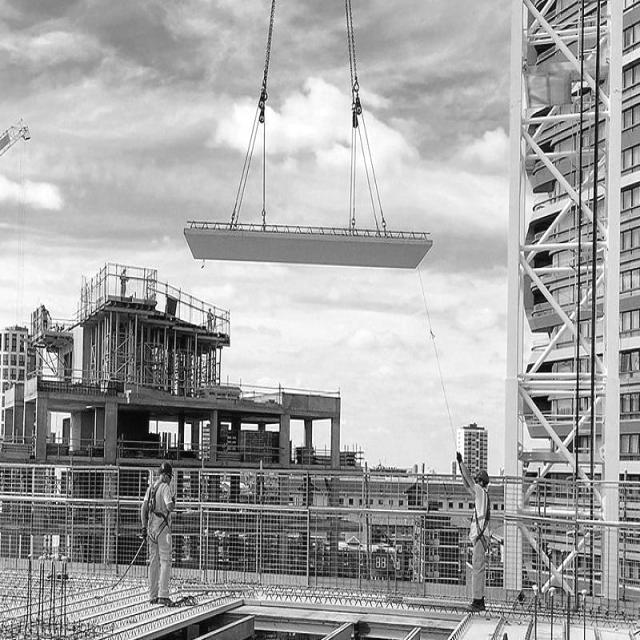hand_glove: (452, 447, 465, 476)
head_helmet: (158, 459, 174, 474), (476, 467, 490, 483)
person: (138, 458, 177, 605), (462, 461, 489, 613), (118, 266, 130, 297), (41, 302, 50, 331), (206, 308, 215, 329)
shoes: (467, 594, 487, 615), (153, 593, 175, 608)
